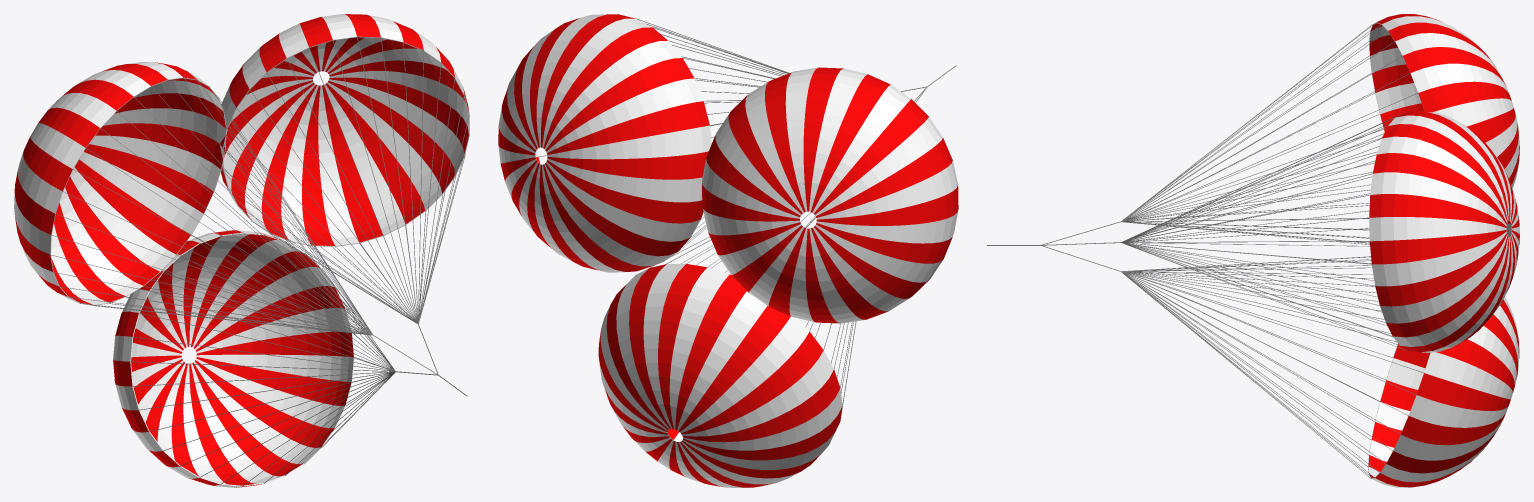
File: apollo_3chute.obj
3 views of the same model, side by side, from view 1: azimuth 30°, elevation 25°; view 2: azimuth 150°, elevation 25°; view 3: azimuth 270°, elevation 25° (orthographic). The views are drawn at different scales.
Visible parts, largest first — view 1: group68, group69, group103, group104, group33, group34; view 2: group33, group34, group103, group104, group69, group68; view 3: group104, group103, group68, group69, group33, group34.
Part boxes in pixels (left/top/right/bottom): group68: left=113, top=230, right=354, bottom=487; group69: left=113, top=230, right=353, bottom=487; group103: left=220, top=14, right=469, bottom=246; group104: left=220, top=14, right=469, bottom=245; group33: left=14, top=62, right=226, bottom=305; group34: left=14, top=62, right=225, bottom=304; group33: left=702, top=67, right=958, bottom=323; group34: left=702, top=67, right=958, bottom=323; group103: left=498, top=14, right=711, bottom=272; group104: left=498, top=14, right=709, bottom=271; group69: left=598, top=264, right=842, bottom=487; group68: left=598, top=263, right=842, bottom=487; group104: left=1369, top=111, right=1519, bottom=352; group103: left=1369, top=112, right=1519, bottom=352; group68: left=1368, top=297, right=1518, bottom=487; group69: left=1368, top=299, right=1519, bottom=487; group33: left=1369, top=16, right=1519, bottom=187; group34: left=1369, top=14, right=1519, bottom=184.
Bounding box in the file's own units: 27.69 × 26.21 × 31.35.
